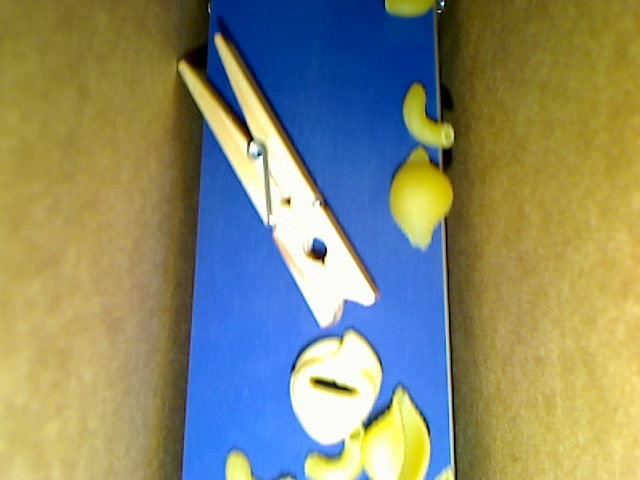elbow: (403, 82, 453, 148), (304, 426, 366, 479), (224, 448, 296, 479)
shell: (391, 145, 453, 252), (362, 384, 430, 479)
tortellini: (287, 326, 383, 447)
